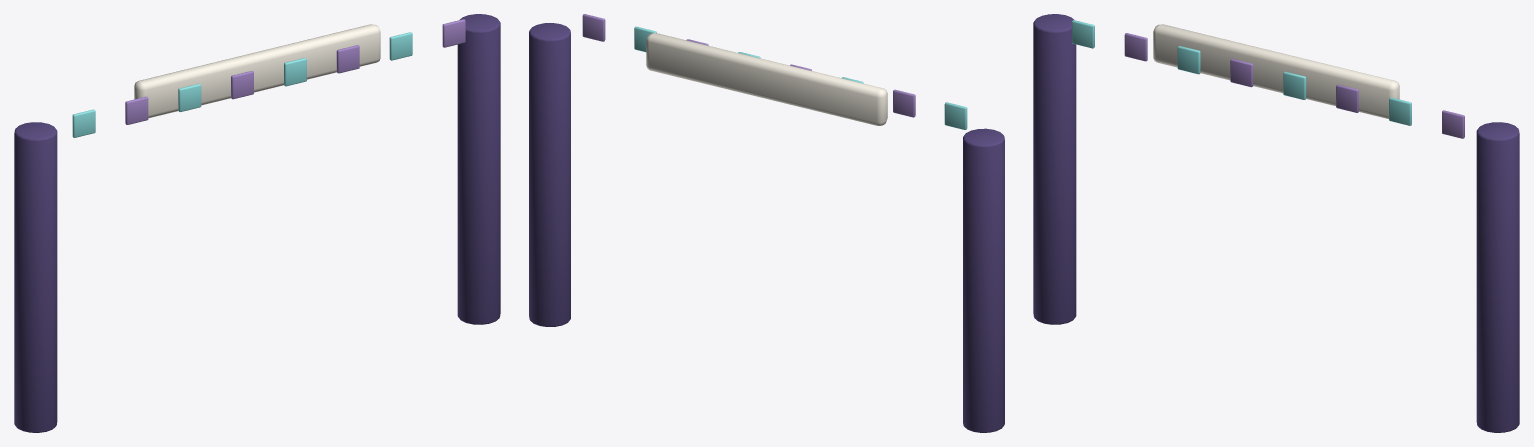
Rendered from finish_arch.glb.
The picture shows the model from 3 angles, left to right: view 1: azimuth 30°, elevation 25°; view 2: azimuth 150°, elevation 25°; view 3: azimuth 330°, elevation 25°; orthographic projection. The views are drawn at different scales.
Visible parts, largest first — view 1: Post_-1.0, Post_1.0, Banner, Check_1, Check_2, Check_5, Check_0, Check_6, Check_7, Check_4, Check_3; view 2: Post_-1.0, Post_1.0, Banner, Check_7, Check_0, Check_1; view 3: Post_1.0, Post_-1.0, Banner, Check_2, Check_1, Check_3, Check_4, Check_5, Check_6, Check_0, Check_7.
Part boxes in pixels (left/top/right/bottom): Post_-1.0: left=14, top=122, right=57, bottom=432; Post_1.0: left=457, top=14, right=500, bottom=324; Banner: left=134, top=24, right=380, bottom=118; Check_1: left=125, top=96, right=148, bottom=124; Check_2: left=178, top=83, right=201, bottom=112; Check_5: left=336, top=45, right=359, bottom=73; Check_0: left=72, top=109, right=95, bottom=137; Check_6: left=389, top=32, right=412, bottom=60; Check_7: left=442, top=19, right=465, bottom=47; Check_4: left=284, top=58, right=306, bottom=86; Check_3: left=231, top=71, right=253, bottom=99; Post_-1.0: left=963, top=128, right=1004, bottom=432; Post_1.0: left=529, top=23, right=570, bottom=326; Banner: left=646, top=33, right=887, bottom=125; Check_7: left=582, top=14, right=605, bottom=41; Check_0: left=944, top=102, right=967, bottom=129; Check_1: left=893, top=89, right=915, bottom=117; Post_1.0: left=1476, top=122, right=1519, bottom=432; Post_-1.0: left=1033, top=14, right=1076, bottom=324; Banner: left=1153, top=24, right=1399, bottom=118; Check_2: left=1177, top=46, right=1200, bottom=74; Check_1: left=1124, top=33, right=1147, bottom=61; Check_3: left=1230, top=58, right=1253, bottom=87; Check_4: left=1283, top=71, right=1306, bottom=99; Check_5: left=1336, top=84, right=1358, bottom=112; Check_6: left=1389, top=97, right=1411, bottom=125; Check_0: left=1072, top=20, right=1094, bottom=48; Check_7: left=1442, top=110, right=1464, bottom=138.
Bounding box in the file's own units: 5.64 × 3.55 × 0.44.
